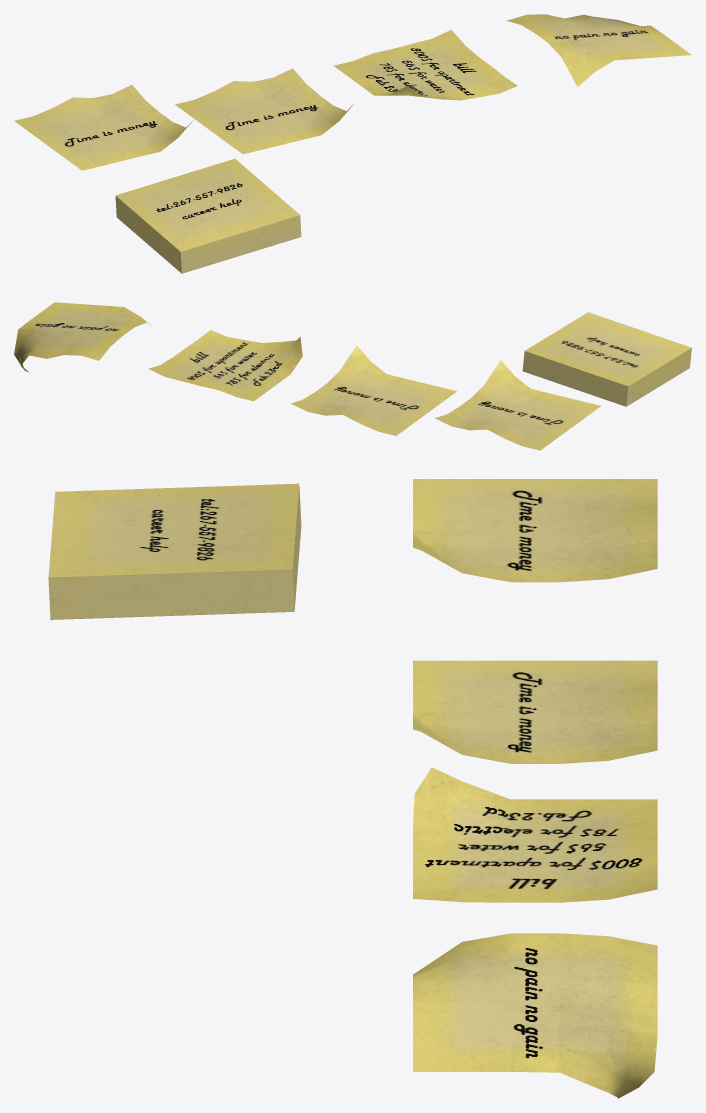
File: memo1.fbx
3 views of the same model, one above another, from view 1: azimuth 30°, elevation 25°; view 2: azimuth 150°, elevation 25°; view 3: azimuth 270°, elevation 25° (orthographic). The views are drawn at different scales.
Parts seen in each view (by area): view 1: SM_post_it_notes.001, SM_post_it_notes, SM_post_it_notes.004, SM_post_it_notes.002, SM_post_it_notes.003; view 2: SM_post_it_notes.001, SM_post_it_notes.004, SM_post_it_notes, SM_post_it_notes.002, SM_post_it_notes.003; view 3: SM_post_it_notes.003, SM_post_it_notes.001, SM_post_it_notes.002, SM_post_it_notes, SM_post_it_notes.004.
Boxes of the visible parts, x1,y1,x2,y2 form: SM_post_it_notes.001: (115, 158, 301, 273); SM_post_it_notes: (175, 68, 354, 154); SM_post_it_notes.004: (14, 85, 193, 170); SM_post_it_notes.002: (333, 29, 517, 100); SM_post_it_notes.003: (506, 14, 691, 87); SM_post_it_notes.001: (522, 312, 691, 406); SM_post_it_notes.004: (435, 360, 600, 450); SM_post_it_notes: (291, 345, 456, 435); SM_post_it_notes.002: (148, 330, 302, 401); SM_post_it_notes.003: (14, 302, 154, 372); SM_post_it_notes.003: (413, 933, 657, 1098); SM_post_it_notes.001: (48, 483, 301, 619); SM_post_it_notes.002: (413, 767, 657, 902); SM_post_it_notes: (413, 660, 657, 763); SM_post_it_notes.004: (413, 479, 657, 582).
Size of the model in its own units: 39.33 by 5.34 by 18.94.
Materials: 1 (1 with a texture image).
